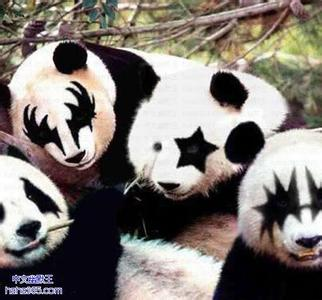panda: (129, 61, 291, 244), (1, 38, 207, 181), (1, 147, 131, 300), (211, 119, 320, 300)
